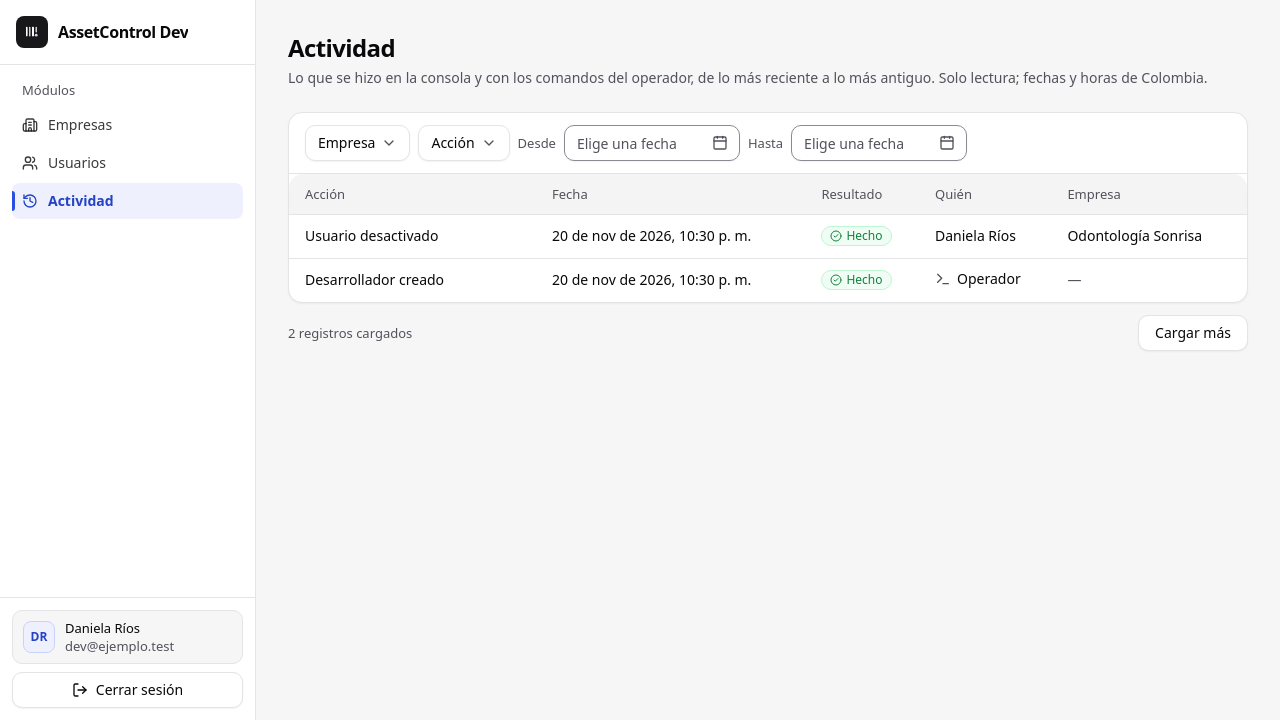
cargar más por cursor (R32; A18) › pide la siguiente con el cursor del servidor y conserva lo cargado
Expected: the text "2 registros cargados" is shown, [288,324,412,342]
Click the button "Cargar más": (1193, 333) [1138,315,1248,351]
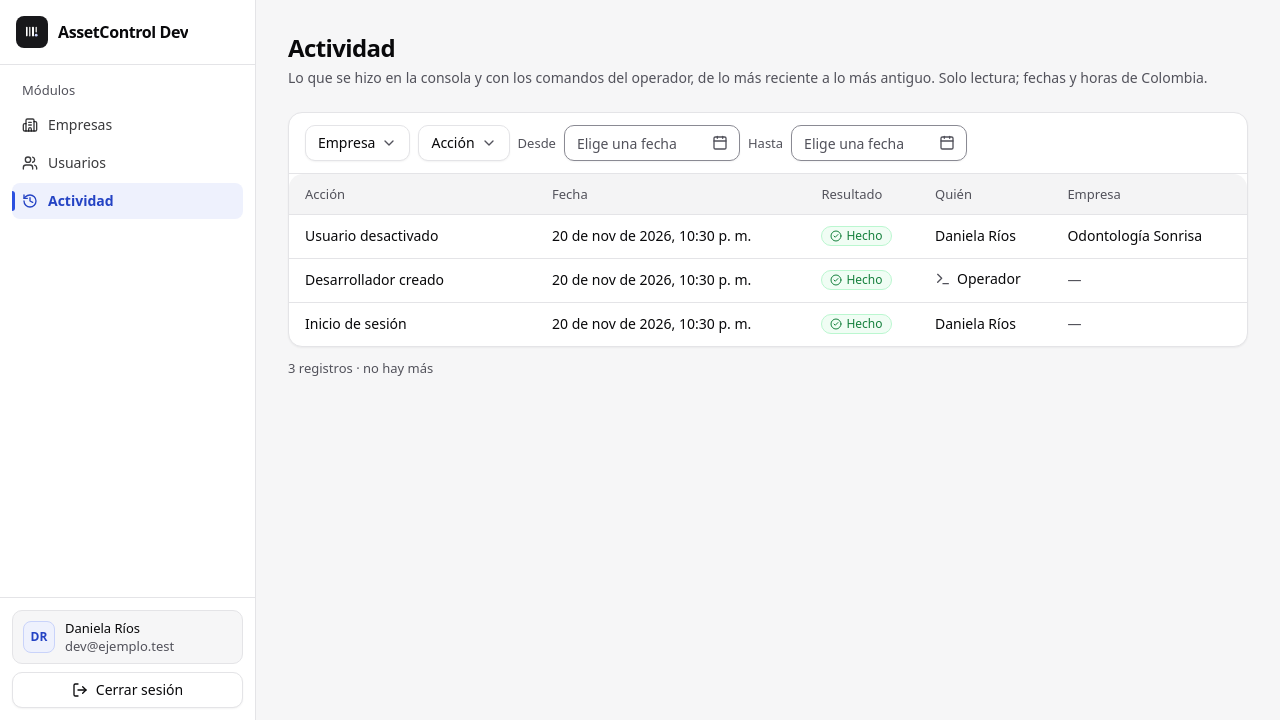
Result: the text "Inicio de sesión" is shown at [289,302,540,346]
Result: the text "3 registros · no hay más" is shown at [288,359,433,377]
Result: the button "Cargar más" is gone
